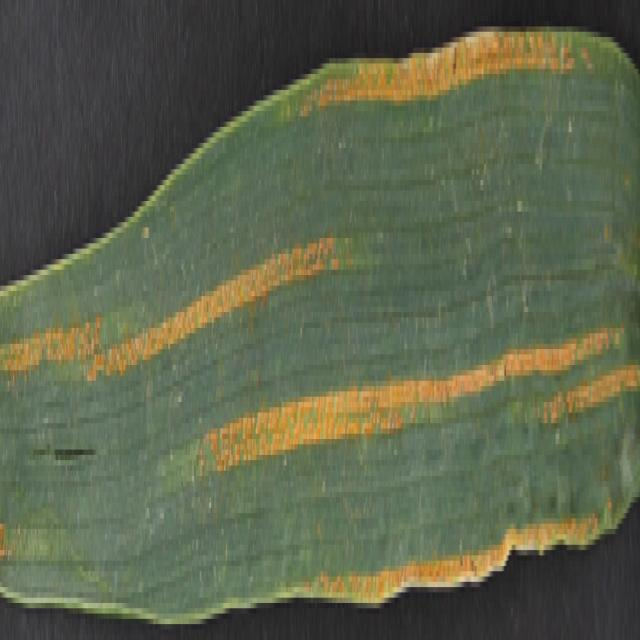leaf rust: (1, 222, 640, 471), (285, 5, 600, 148), (310, 487, 604, 592)
